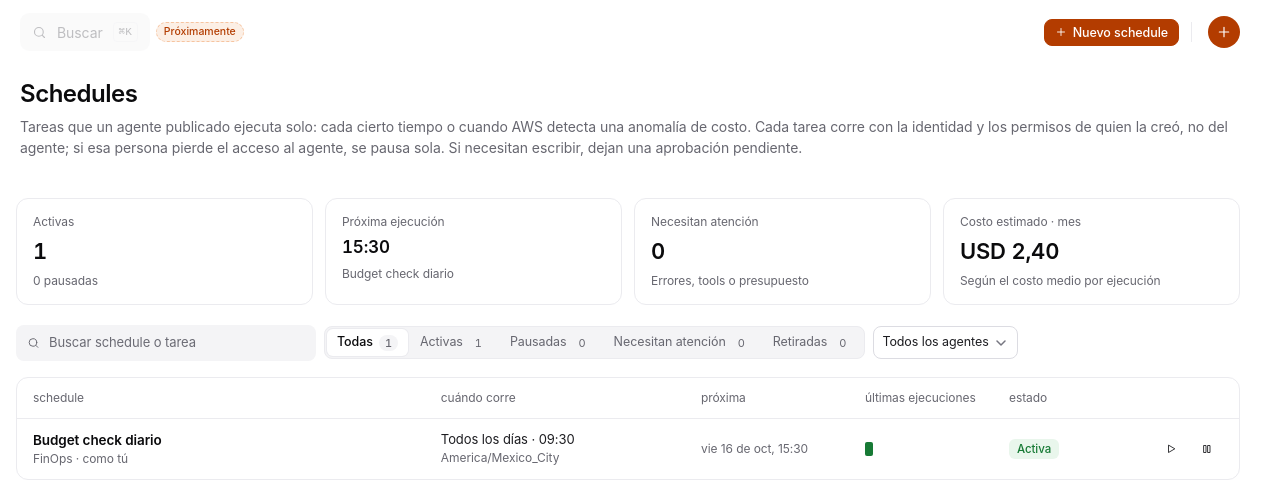
Test: SchedulesPage › runs a task now and tells it is queued
Click the button named "Ejecutar ahora Budget check diario": (1171, 449) [1155,433,1187,465]
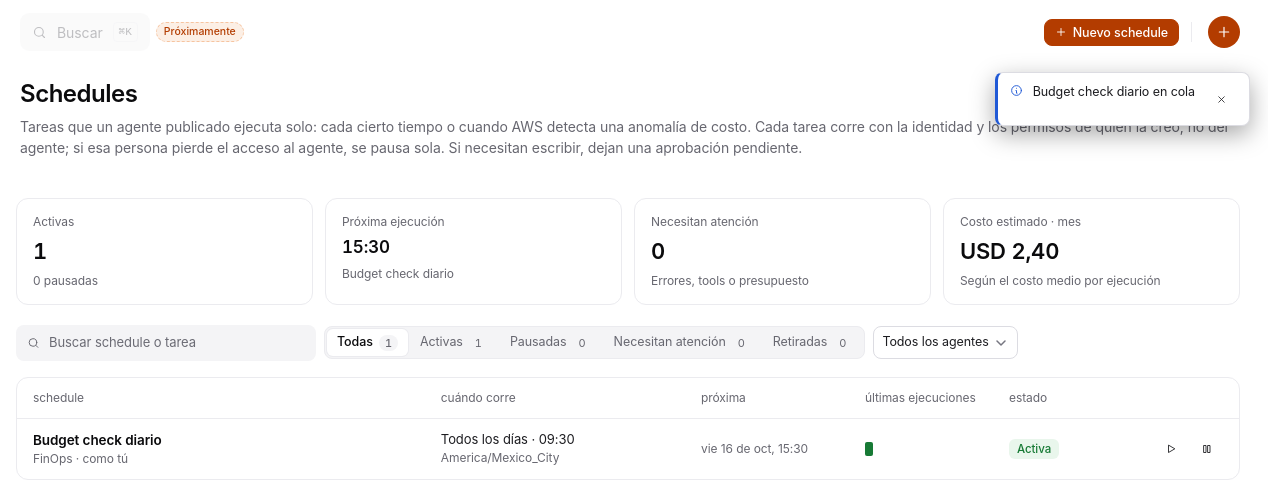
Expected: the text "Budget check diario en cola" is shown, [1033,83,1195,102]
